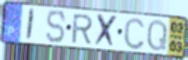C: (123, 16, 146, 51)
I: (24, 8, 36, 42)
Q: (146, 18, 169, 53)
R: (71, 14, 94, 45)
S: (46, 9, 67, 44)
X: (92, 13, 119, 50)
